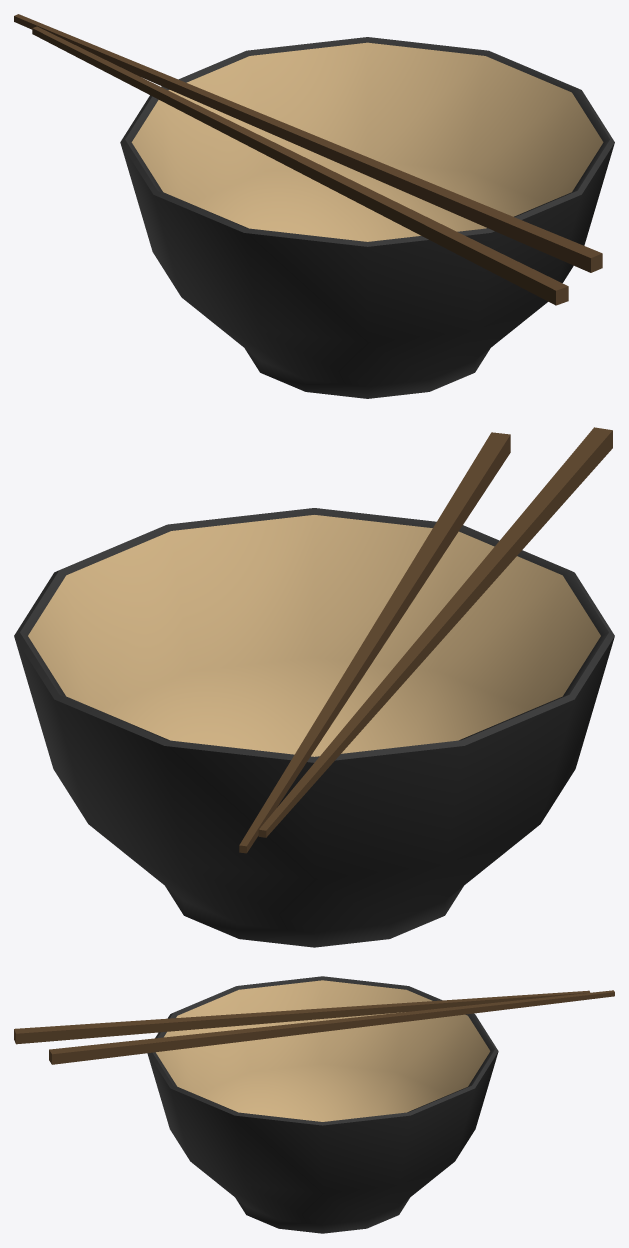
The model's file is ZSWKWHKZ5801.FBX.
The picture shows the model from 3 angles, top to bottom: view 1: azimuth 30°, elevation 25°; view 2: azimuth 150°, elevation 25°; view 3: azimuth 270°, elevation 25°; orthographic projection. The views are drawn at different scales.
Visible parts, largest first — view 1: ZSWKWHKZ5801; view 2: ZSWKWHKZ5801; view 3: ZSWKWHKZ5801.
Part boxes in pixels (x1,y1,x2,y2): ZSWKWHKZ5801: (14,14,614,398); ZSWKWHKZ5801: (14,427,614,947); ZSWKWHKZ5801: (14,976,614,1233).
Bounding box in the file's own units: 380 × 188 × 649.
